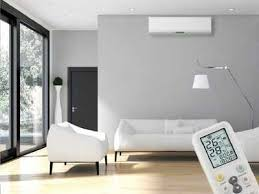ac: (147, 13, 214, 38)
